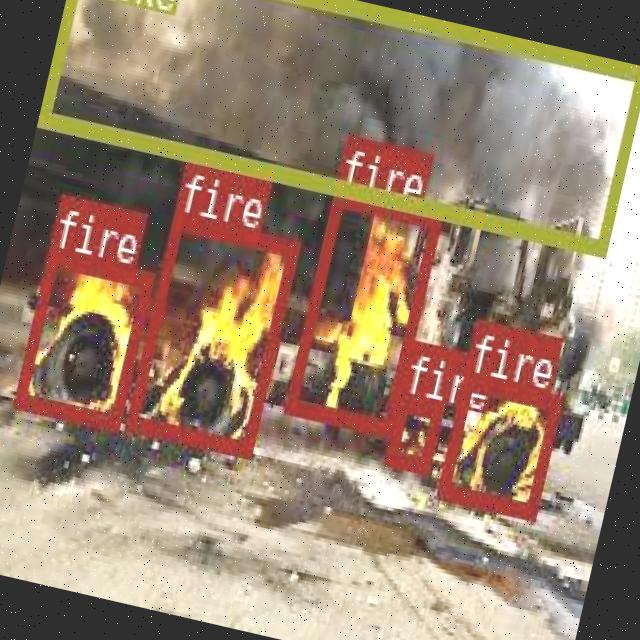fire: (124, 210, 298, 456), (283, 186, 440, 434), (13, 246, 153, 427), (435, 370, 560, 517), (382, 392, 442, 470)
smoke: (37, 0, 640, 251)
